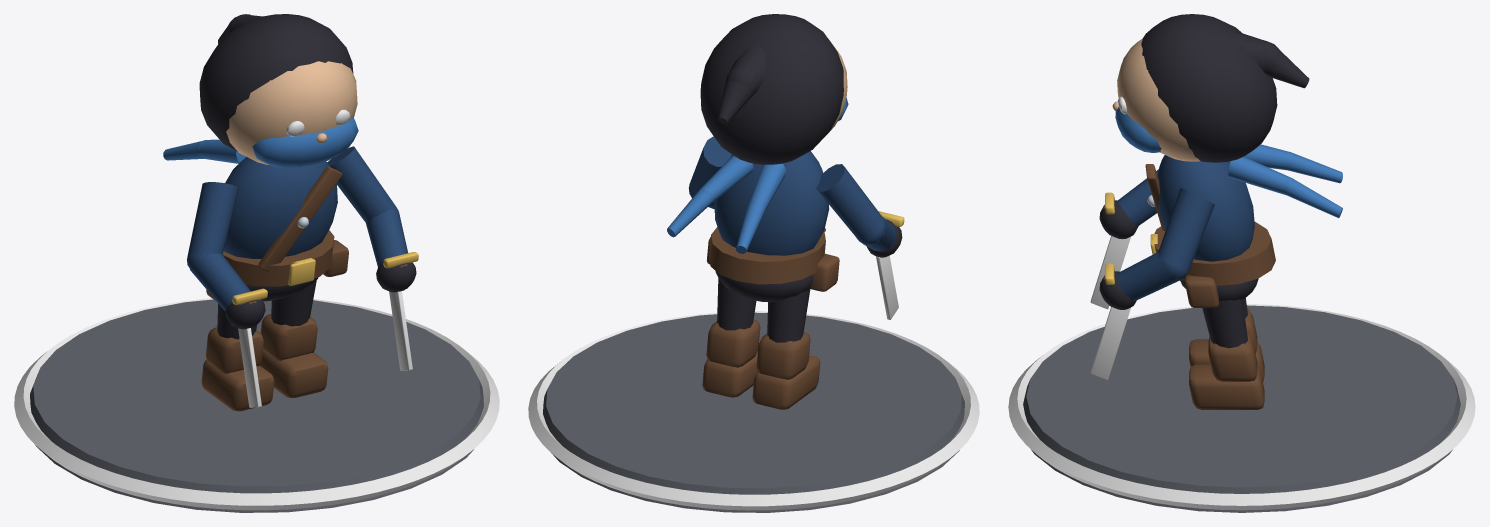
The model's file is shadow_assassin.fbx.
The picture shows the model from 3 angles, left to right: view 1: azimuth 30°, elevation 25°; view 2: azimuth 150°, elevation 25°; view 3: azimuth 270°, elevation 25°; orthographic projection. The views are drawn at different scales.
Parts seen in each view (by area): view 1: shadow_assassin; view 2: shadow_assassin; view 3: shadow_assassin.
Boxes of the visible parts, x1=… form: shadow_assassin: x1=14, y1=14, x2=499, y2=512; shadow_assassin: x1=528, y1=14, x2=979, y2=512; shadow_assassin: x1=1008, y1=14, x2=1475, y2=512.
Size of the model in its own units: 1.56 by 1.46 by 1.56.
Materials: 2 (1 with a texture image).
